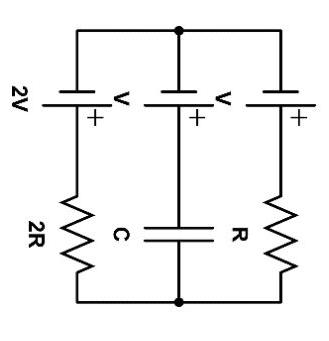Battery: (40, 73, 104, 137)
